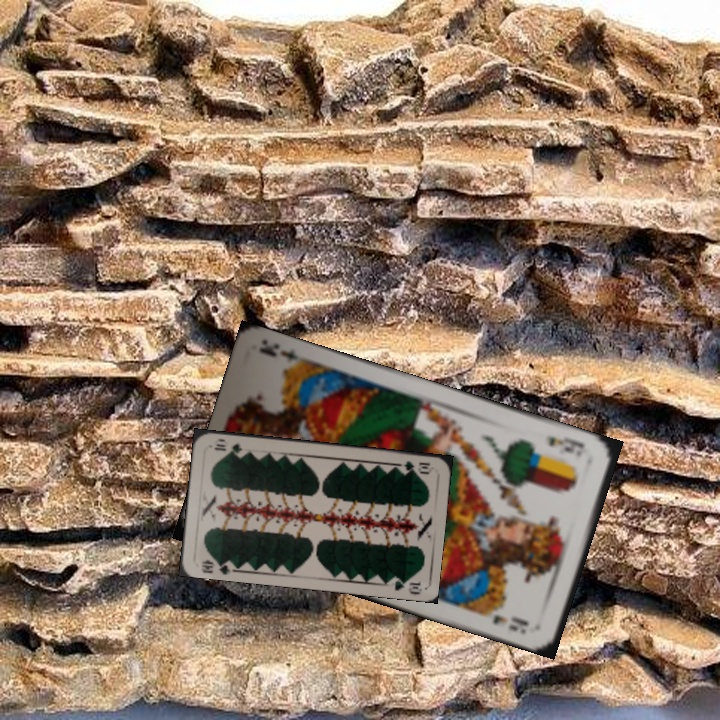EK: (542, 432, 587, 456)
G10: (197, 555, 236, 576), (400, 457, 432, 476)
